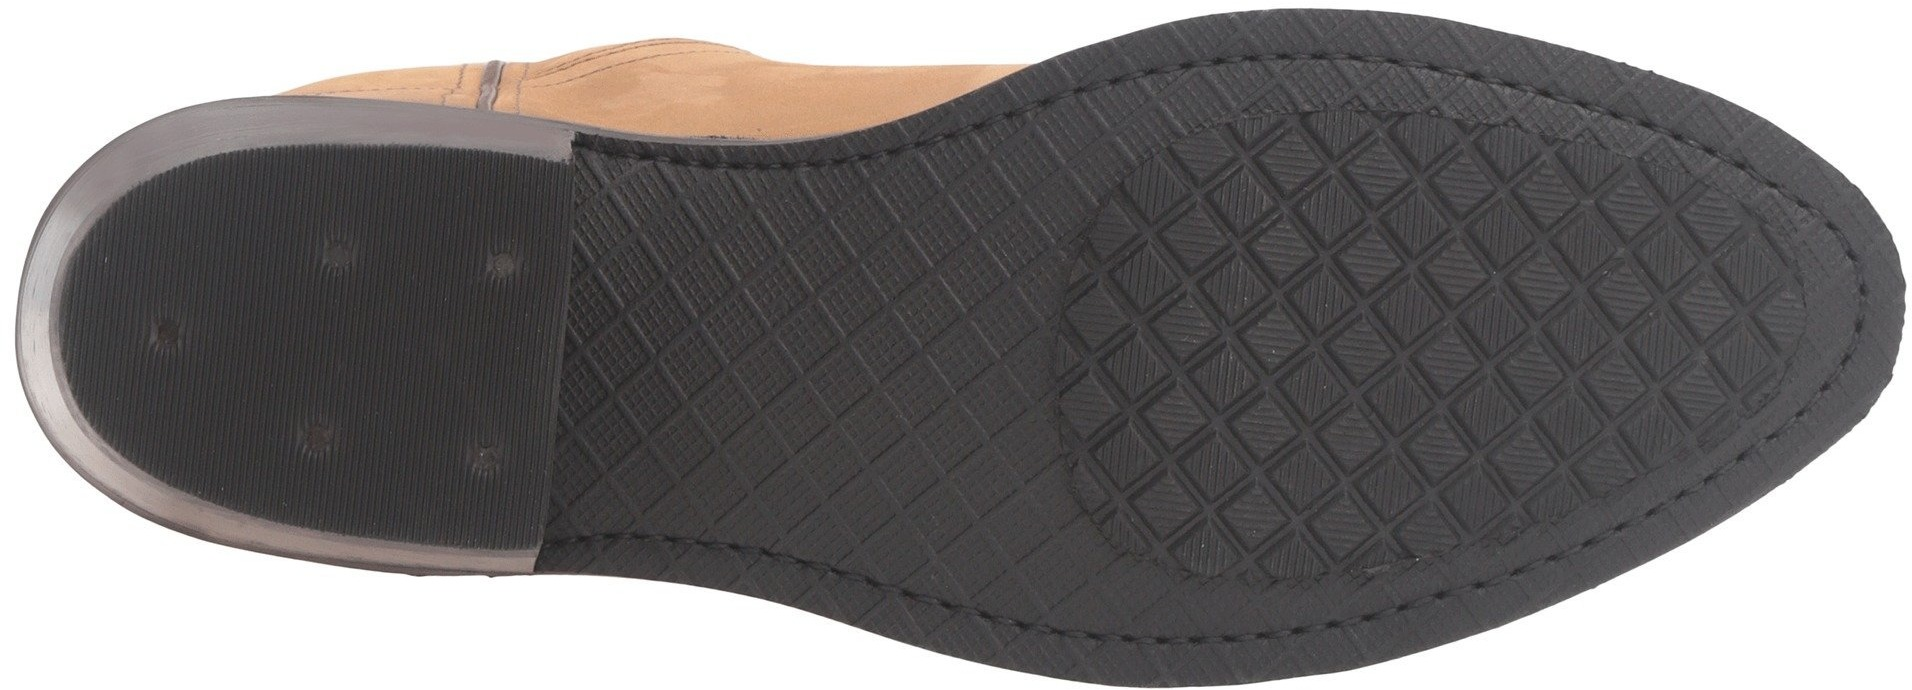exclude: (540, 29, 1017, 663)
other: (60, 148, 573, 549), (202, 185, 519, 508)
quad: (1146, 155, 1577, 525), (583, 152, 988, 530), (1583, 191, 1792, 384)
